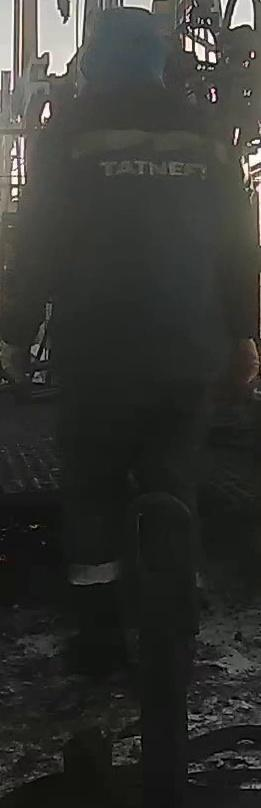gloves: (0, 334, 34, 389), (239, 331, 261, 393)
vest: (34, 87, 242, 402)
